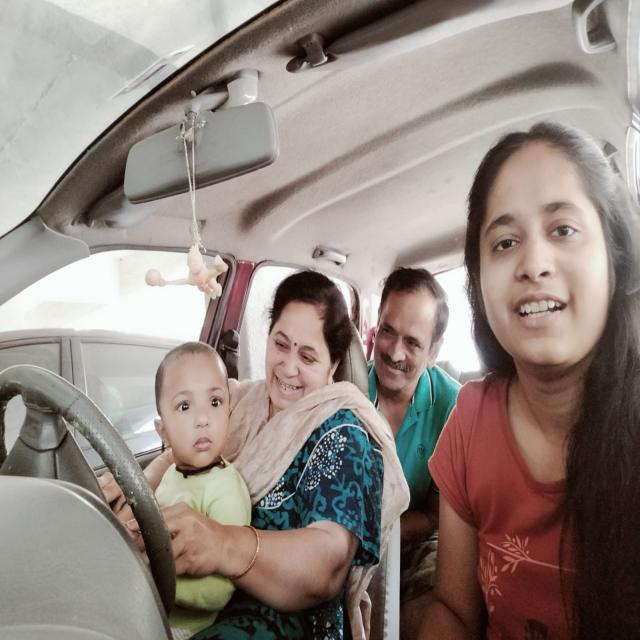child: (149, 335, 235, 468)
person: (458, 120, 640, 450), (252, 260, 354, 426), (365, 250, 446, 404)
